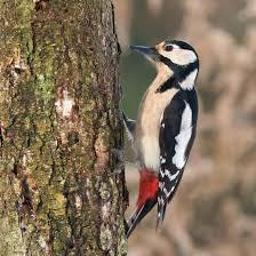Woodpecker: (106, 39, 199, 238)
